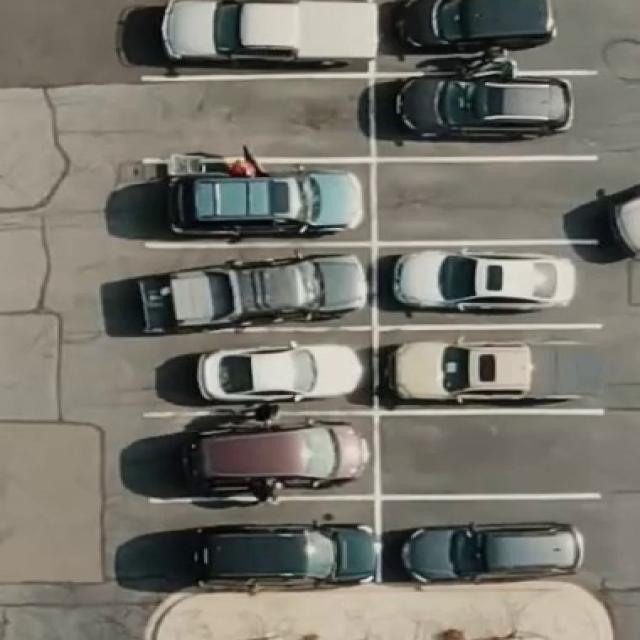empty: (383, 166, 588, 237), (387, 422, 593, 489), (148, 88, 360, 152)
notEmpty: (152, 508, 372, 582), (148, 419, 368, 492), (388, 506, 598, 580), (387, 251, 603, 321), (148, 169, 366, 236), (387, 335, 602, 402), (151, 254, 367, 320), (382, 82, 592, 148), (155, 340, 364, 404), (385, 4, 593, 66), (153, 7, 359, 69)
